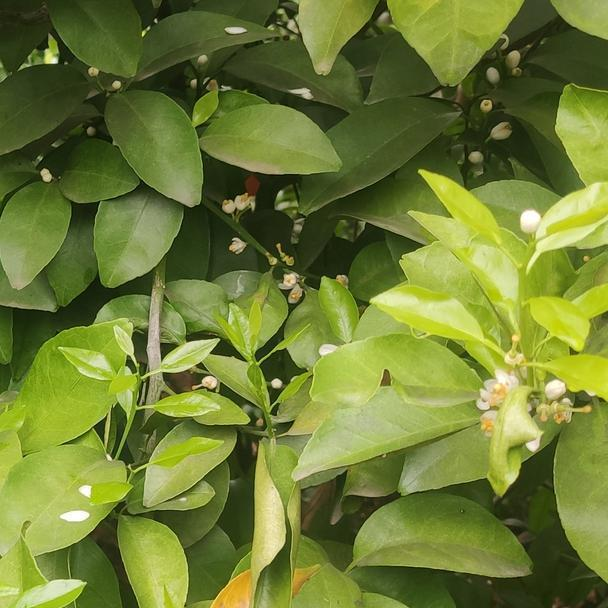shoot: (426, 168, 608, 393), (79, 329, 219, 457), (210, 301, 322, 430)
